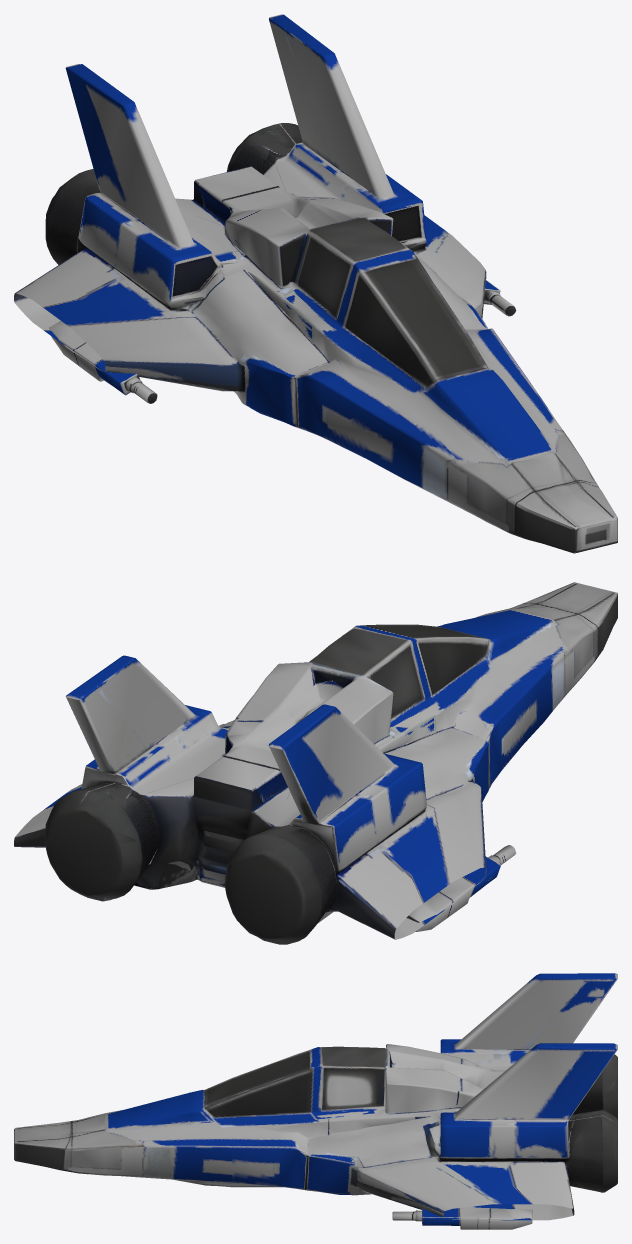
The model's file is player_starfighter_body_only.glb.
3 views of the same model, one above another, from view 1: azimuth 30°, elevation 25°; view 2: azimuth 150°, elevation 25°; view 3: azimuth 270°, elevation 25° (orthographic). The views are drawn at different scales.
Visible parts, largest first — view 1: 13.0.114.008; view 2: 13.0.114.008; view 3: 13.0.114.008.
Part boxes in pixels (left/top/right/bottom): 13.0.114.008: left=14, top=14, right=617, bottom=553; 13.0.114.008: left=14, top=582, right=617, bottom=944; 13.0.114.008: left=14, top=973, right=617, bottom=1229.
Size of the model in its own units: 0.9902 by 0.5832 by 1.91.
2 materials, 2 textured.
